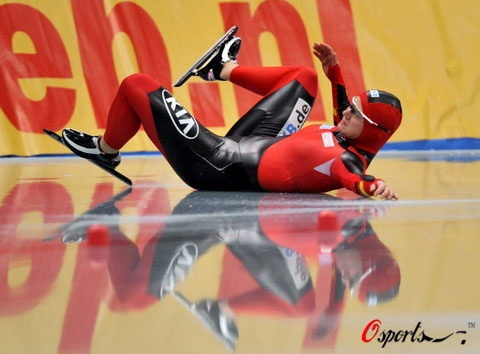falling: (62, 17, 413, 198)
